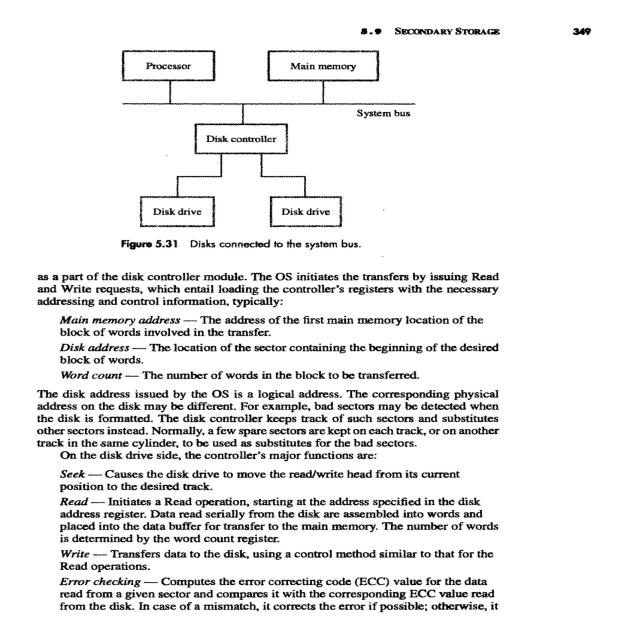diagram: (78, 28, 445, 250)
